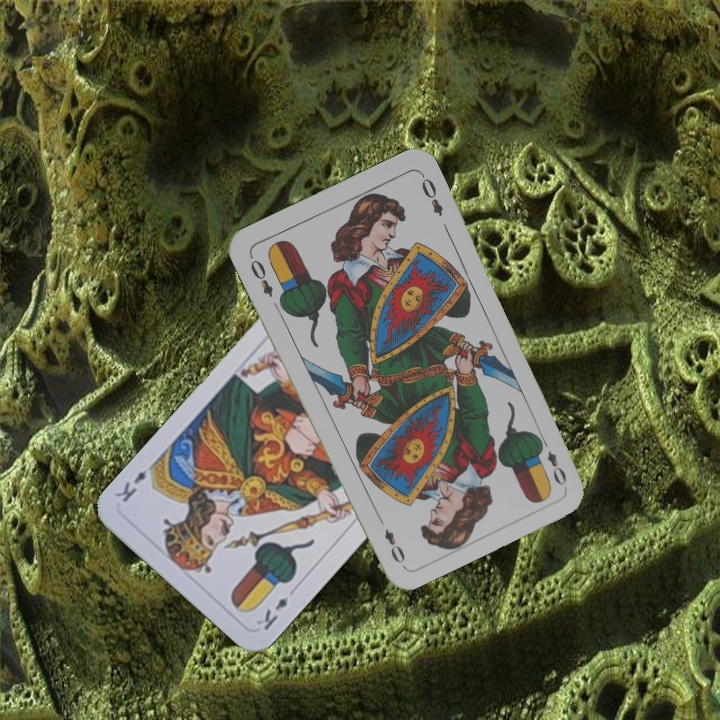EK: (252, 593, 291, 633)
EO: (535, 433, 569, 489), (245, 251, 276, 300)
